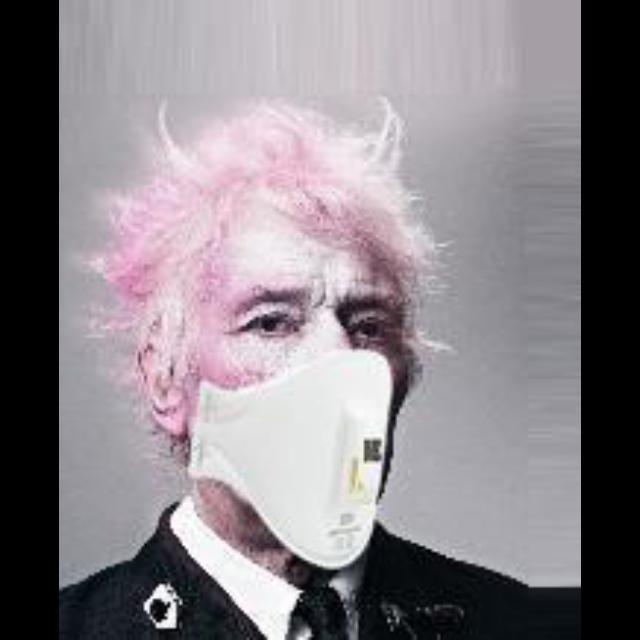suspicion: (120, 138, 444, 556)
